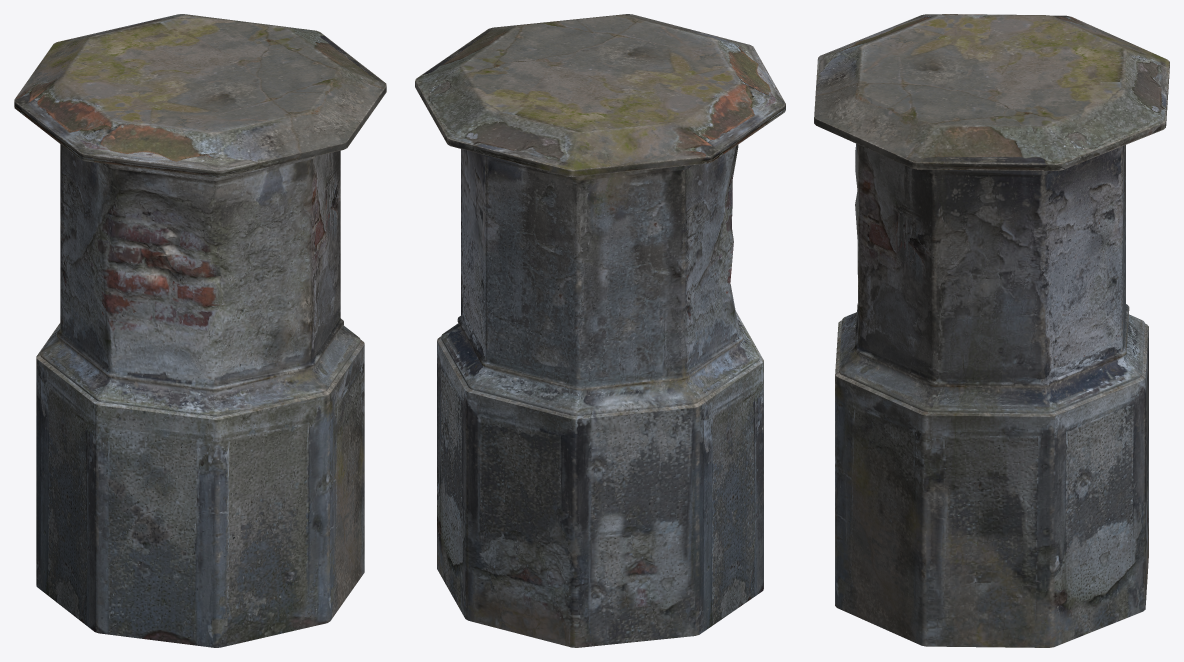
The model's file is sm_ChapelColumnPedestal_01_01.fbx.
3 renders of one model, left to right at view 1: azimuth 30°, elevation 25°; view 2: azimuth 150°, elevation 25°; view 3: azimuth 270°, elevation 25°, orthographic.
Parts seen in each view (by area): view 1: sm_ChapelColumnPedestal_01_01_LOD0; view 2: sm_ChapelColumnPedestal_01_01_LOD0; view 3: sm_ChapelColumnPedestal_01_01_LOD0.
Boxes of the visible parts, x1,y1,x2,y2 form: sm_ChapelColumnPedestal_01_01_LOD0: (14, 14, 386, 647); sm_ChapelColumnPedestal_01_01_LOD0: (415, 14, 785, 647); sm_ChapelColumnPedestal_01_01_LOD0: (814, 14, 1169, 647).
Bounding box in the file's own units: 128 × 128 × 203.
